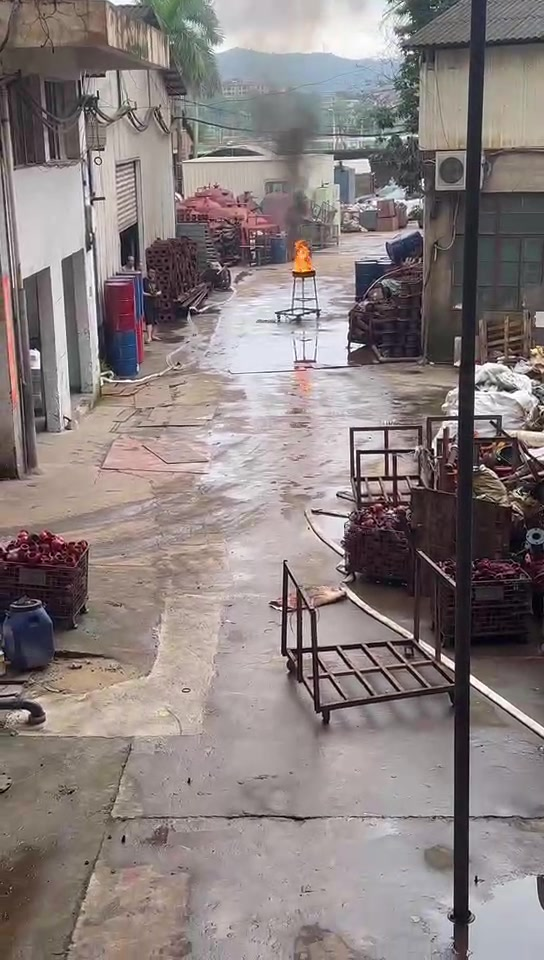fire: (291, 239, 313, 270)
